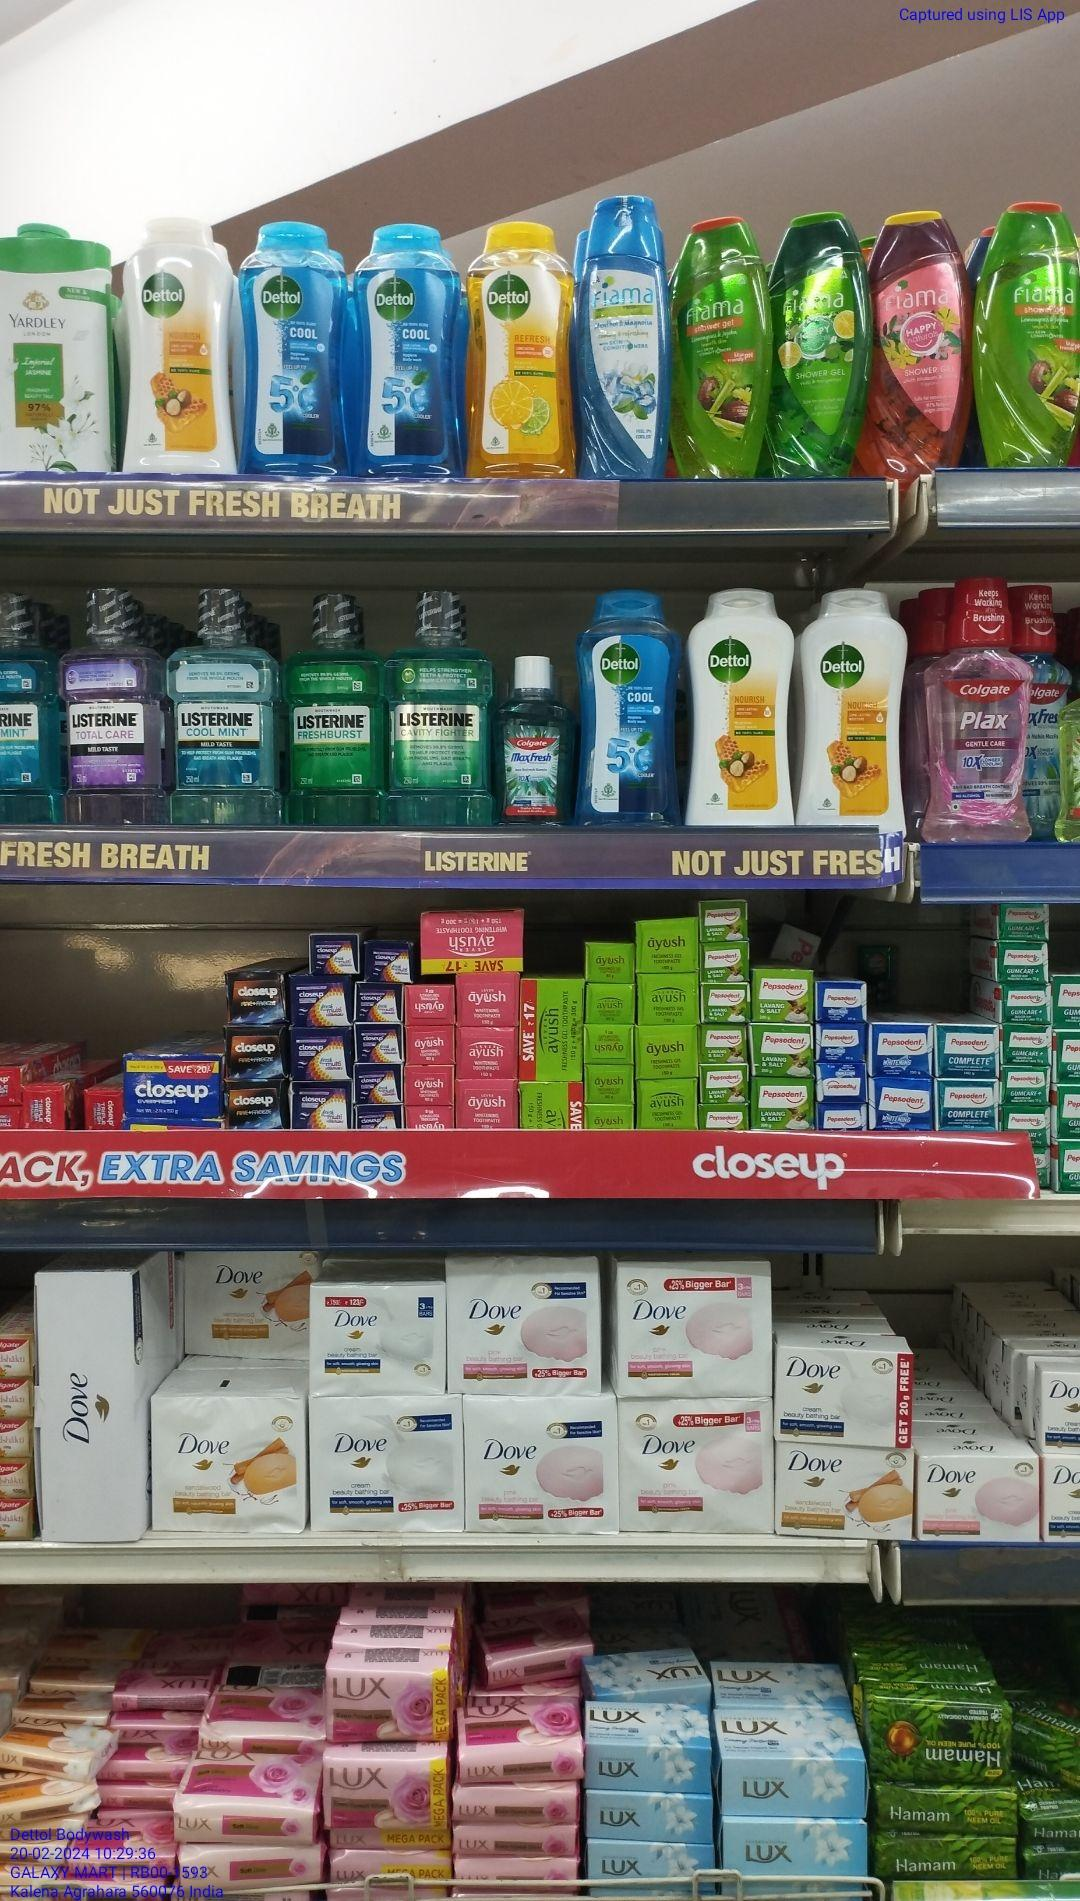Dettol_Bodywash_Cool: (353, 219, 462, 479), (573, 590, 684, 826), (249, 223, 346, 478)
Dettol_Bodywash_Refresh: (470, 214, 576, 477)
Dettol_Nourish_Body_Wash_250ML: (112, 222, 244, 478), (801, 586, 908, 832), (688, 586, 794, 825)
Fiama_Shower_Gel_Lemongrass_and_Jojoba_250ML: (972, 202, 1080, 470), (675, 214, 767, 478)
